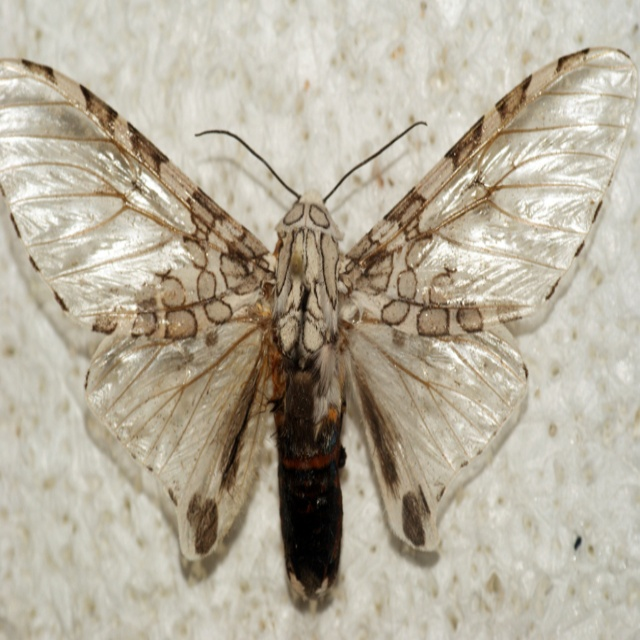Moths and butterflies: (0, 54, 639, 609)
